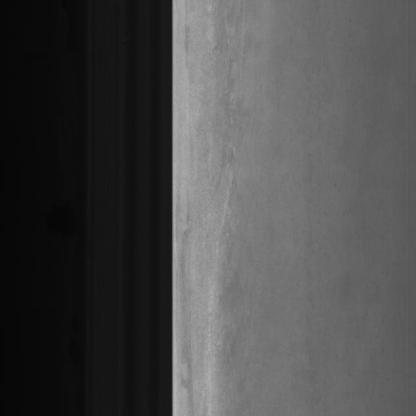silk_spot: (197, 43, 257, 214)
